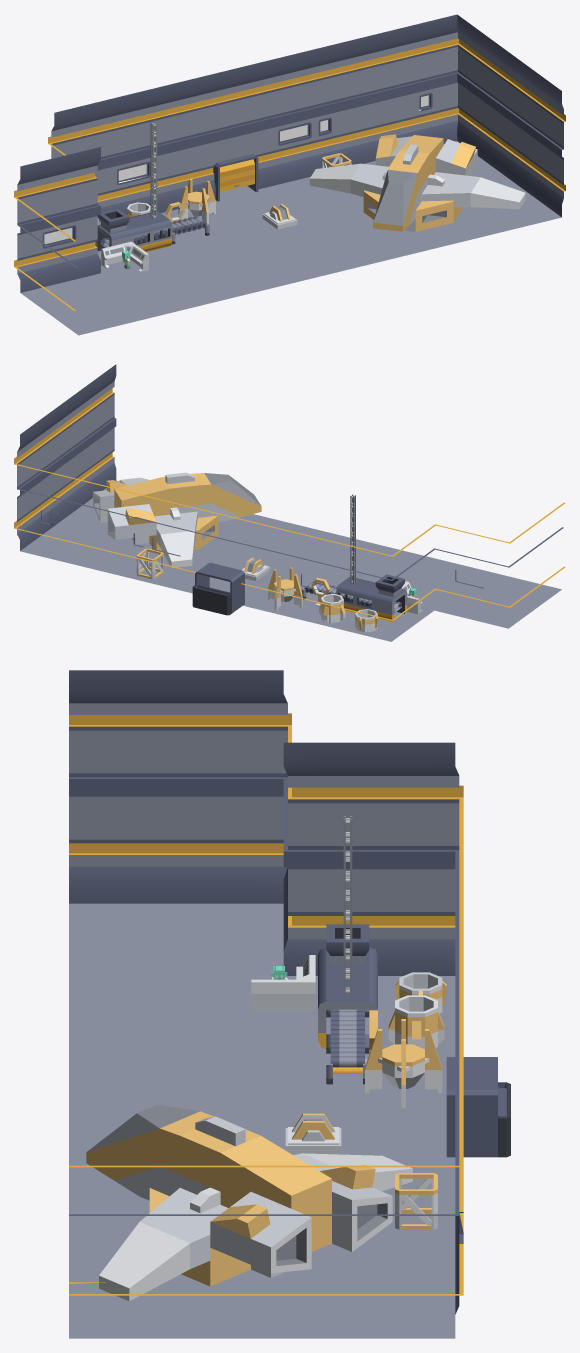
File: ship_internal.glb
3 renders of one model, top to bottom at view 1: azimuth 30°, elevation 25°; view 2: azimuth 150°, elevation 25°; view 3: azimuth 270°, elevation 25°, orthographic. The views are drawn at different scales.
Visible parts, largest first — view 1: floor-large.020, craft_speederD, cover-stripe-hopper.001, rocket_baseA.001, desk_computerCorner.001, monorail_trackSupport.001, Group.024, cover-stripe-bar.001, machine_generatorLarge.001, cover-stripe-window.001; view 2: floor-large.020, craft_speederD, cover-stripe-hopper.001, rocket_baseA.001, structure_diagonal.001, rocket_sidesB.001, monorail_trackSupport.001, cover-stripe-bar.001, rocket_finsB.001, Group.024, cover-stripe-window.001, machine_generatorLarge.001; view 3: floor-large.020, craft_speederD, rocket_baseA.001, desk_computerCorner.001, rocket_sidesB.001, Group.024, machine_generatorLarge.001, cover-stripe-hopper.001, cover-stripe-bar.001, structure_diagonal.001, monorail_trackSupport.001, rocket_finsB.001 (+1 smaller).
Boxes of the visible parts, left/top/right/bottom form: floor-large.020: left=14, top=14, right=565, bottom=335; craft_speederD: left=309, top=134, right=525, bottom=231; cover-stripe-hopper.001: left=95, top=208, right=131, bottom=251; rocket_baseA.001: left=178, top=179, right=215, bottom=223; desk_computerCorner.001: left=101, top=241, right=148, bottom=272; monorail_trackSupport.001: left=150, top=122, right=157, bottom=219; Group.024: left=100, top=216, right=206, bottom=247; cover-stripe-bar.001: left=137, top=211, right=172, bottom=250; machine_generatorLarge.001: left=262, top=204, right=297, bottom=229; cover-stripe-window.001: left=126, top=216, right=151, bottom=251; floor-large.020: left=14, top=364, right=565, bottom=641; craft_speederD: left=93, top=472, right=261, bottom=568; cover-stripe-hopper.001: left=373, top=574, right=407, bottom=622; rocket_baseA.001: left=268, top=567, right=302, bottom=610; structure_diagonal.001: left=136, top=548, right=163, bottom=579; rocket_sidesB.001: left=319, top=594, right=345, bottom=622; monorail_trackSupport.001: left=350, top=494, right=355, bottom=584; cover-stripe-bar.001: left=336, top=577, right=368, bottom=612; rocket_finsB.001: left=355, top=609, right=378, bottom=632; Group.024: left=304, top=581, right=402, bottom=612; cover-stripe-window.001: left=355, top=581, right=378, bottom=612; machine_generatorLarge.001: left=241, top=557, right=270, bottom=581; floor-large.020: left=69, top=670, right=510, bottom=1338; craft_speederD: left=86, top=1104, right=412, bottom=1301; rocket_baseA.001: left=365, top=1019, right=442, bottom=1108; desk_computerCorner.001: left=251, top=955, right=315, bottom=1011; rocket_sidesB.001: left=388, top=995, right=444, bottom=1049; Group.024: left=330, top=1009, right=364, bottom=1067; machine_generatorLarge.001: left=285, top=1113, right=341, bottom=1153; cover-stripe-hopper.001: left=318, top=924, right=377, bottom=972; cover-stripe-bar.001: left=318, top=983, right=377, bottom=1048; structure_diagonal.001: left=395, top=1173, right=437, bottom=1229; monorail_trackSupport.001: left=343, top=816, right=352, bottom=994; rocket_finsB.001: left=395, top=972, right=446, bottom=1013.
Size of the model in its own units: 24.4 by 6 by 10.3.
